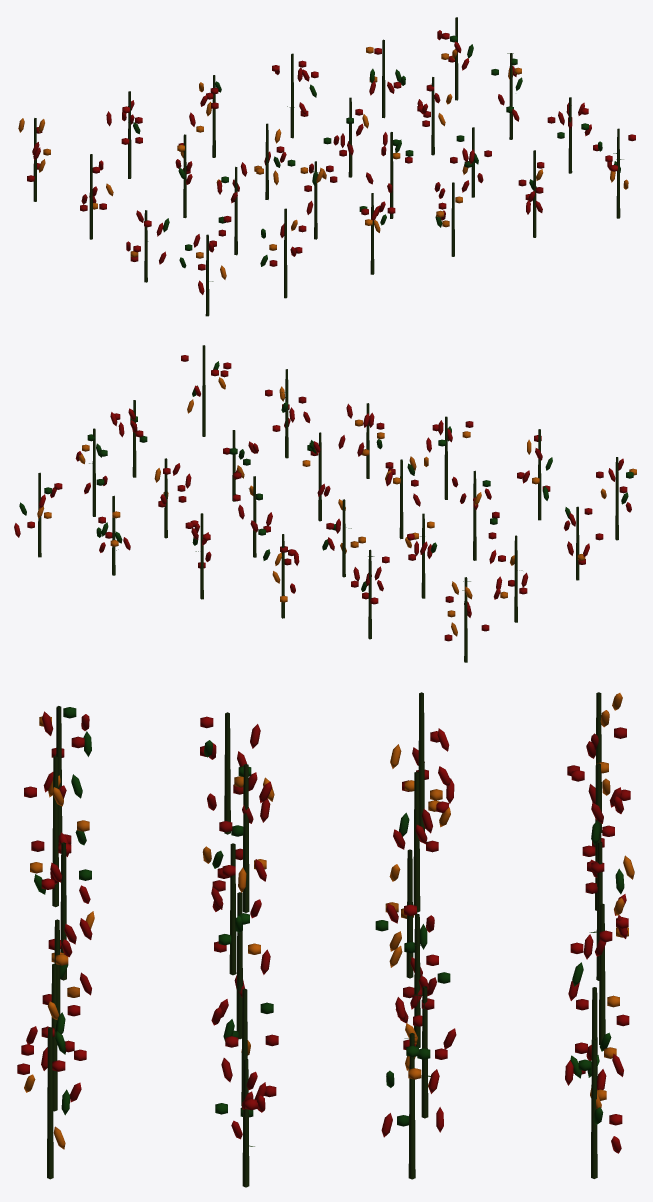
File: fm_pepper_3.glb
The picture shows the model from 3 angles, top to bottom: view 1: azimuth 30°, elevation 25°; view 2: azimuth 150°, elevation 25°; view 3: azimuth 270°, elevation 25°; orthographic projection. The views are drawn at different scales.
Parts seen in each view (by area): view 1: fm_pepper_3; view 2: fm_pepper_3; view 3: fm_pepper_3.
Part boxes in pixels (x1,y1,x2,y2): fm_pepper_3: (18, 17, 635, 316); fm_pepper_3: (14, 345, 636, 662); fm_pepper_3: (17, 692, 634, 1187).
Size of the model in its own units: 3.74 by 0.6782 by 2.56.
